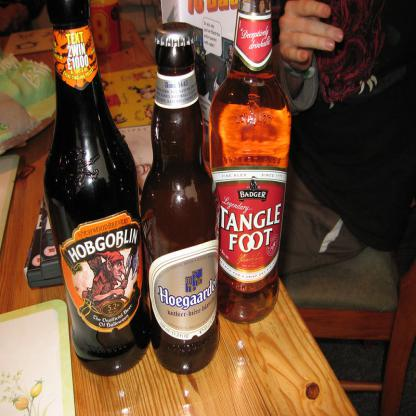drinking: (43, 0, 151, 377), (140, 23, 220, 374), (209, 0, 291, 324)
